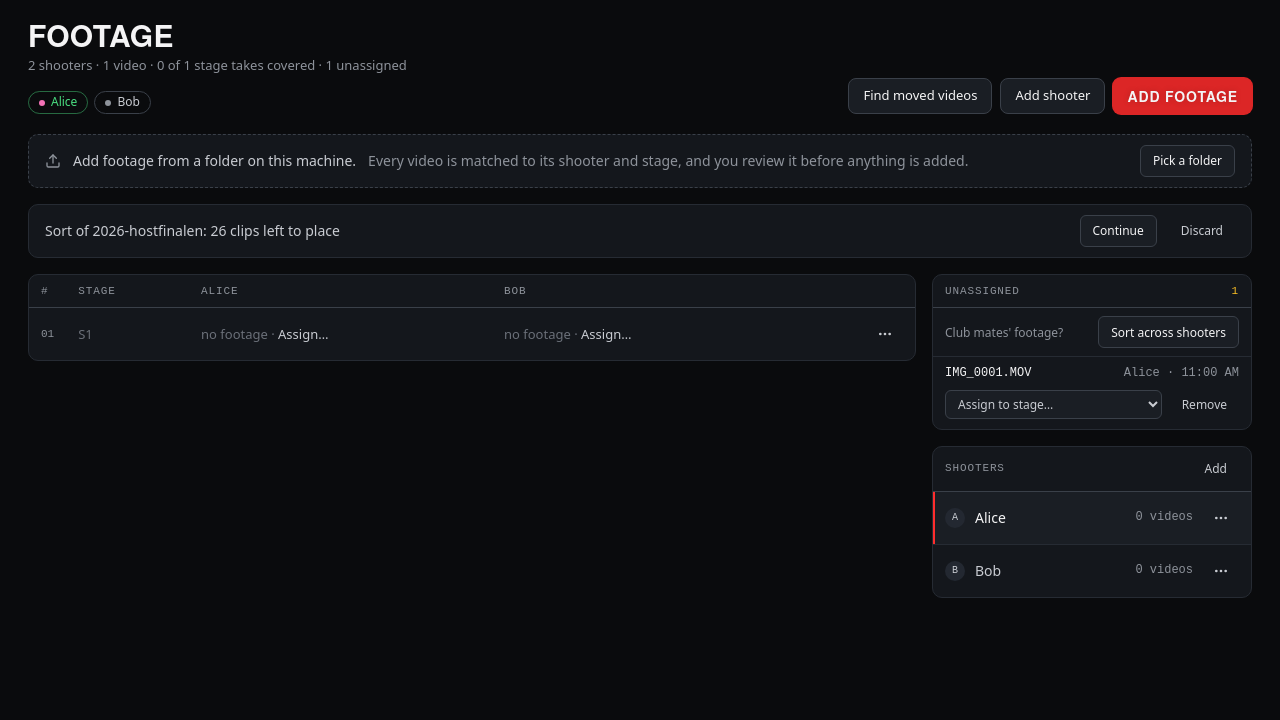
it: Ingest sort across shooters (local) › offers an unfinished sort to continue or discard
Expected: the text "Sort of 2026-hostfinalen: 26 clips left to place" is shown, top-left (45, 221), bottom-right (340, 240)
What coordinates should you click on to do the following:
click the button "Discard"
I would click on:
 (1202, 231)
Its box is top-left (1169, 215), bottom-right (1235, 247).
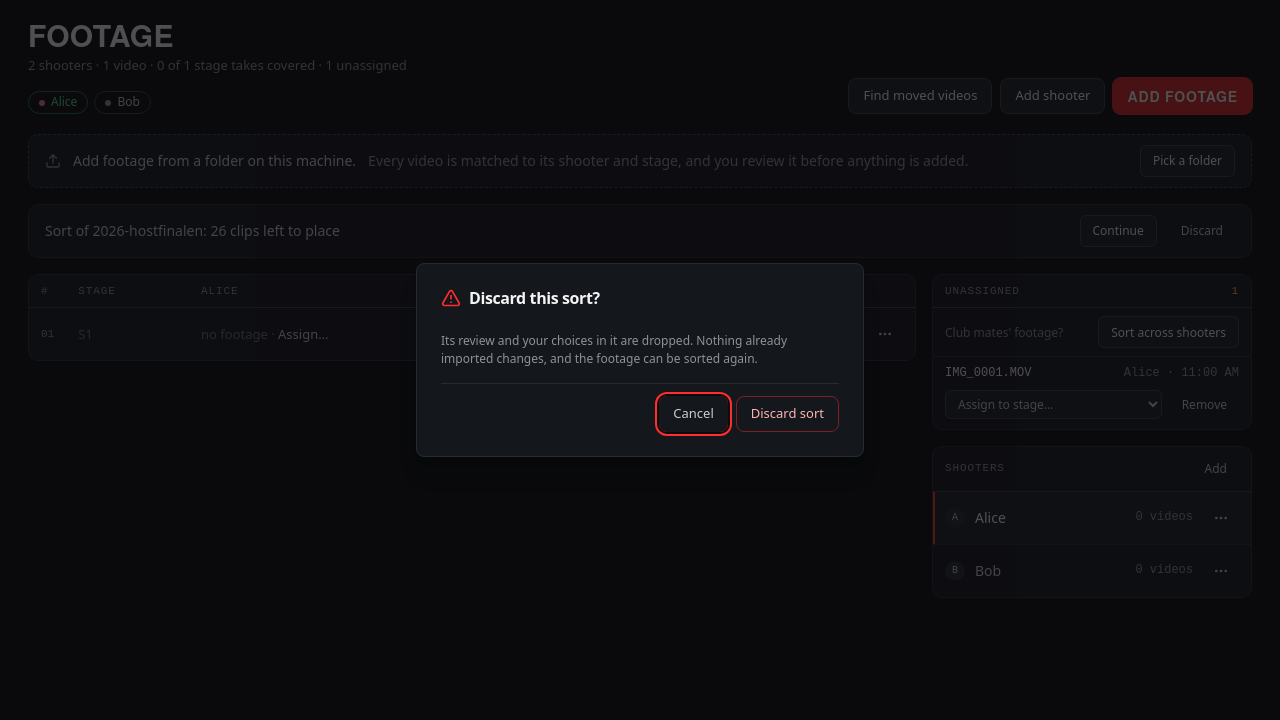
What coordinates should you click on to do the following:
click the button "Discard sort"
I would click on:
 (787, 414)
Its box is top-left (736, 396), bottom-right (839, 432).
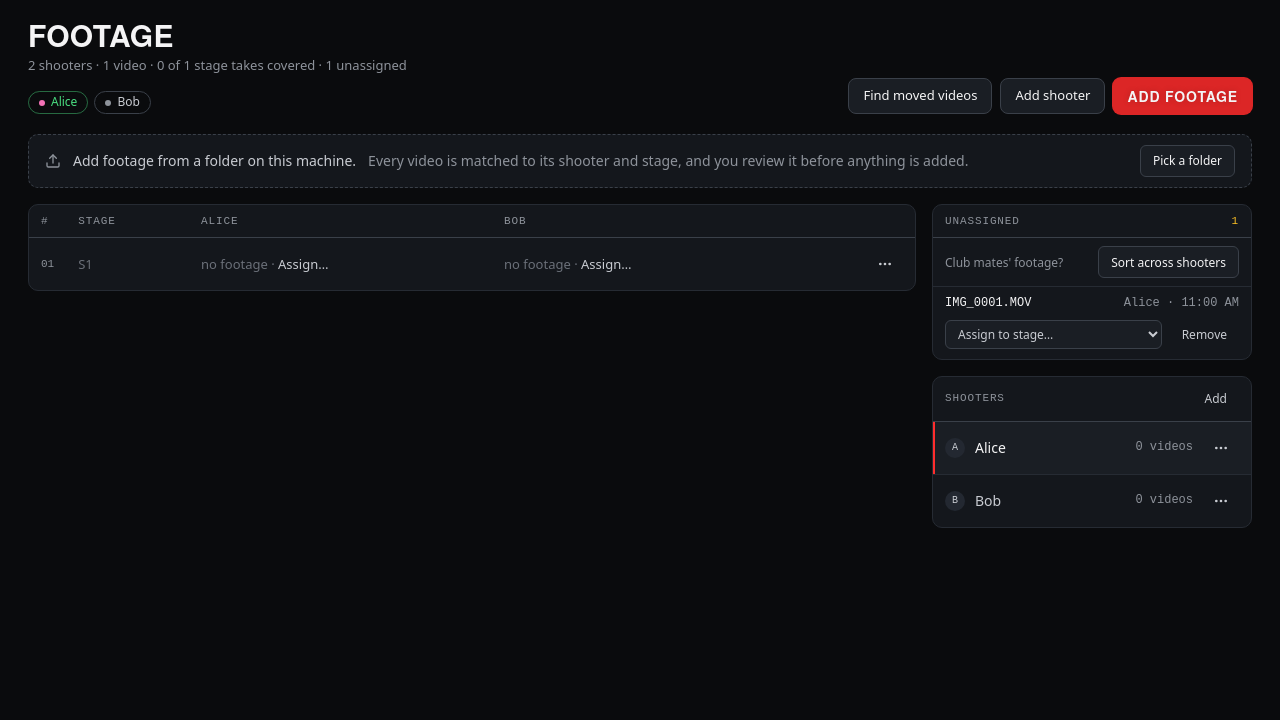
Expected: the text "26 clips left to place" is gone
